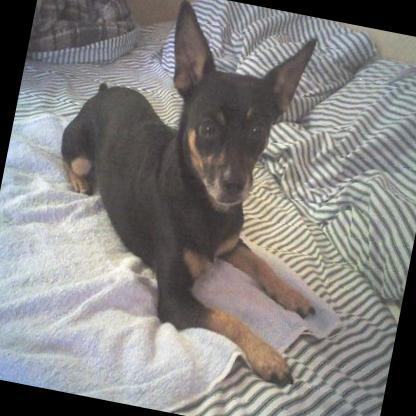miniature_pinscher: (25, 0, 367, 385)
